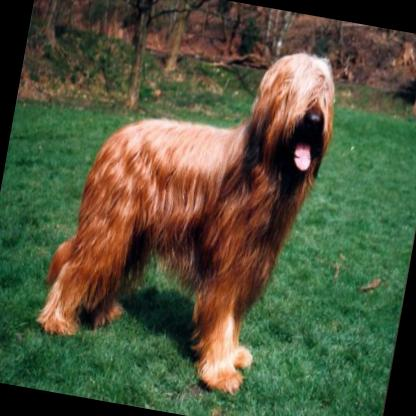briard: (26, 5, 343, 400)
